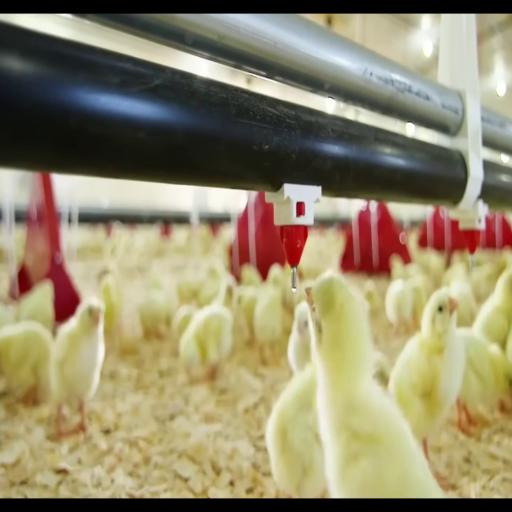chick: (307, 273, 443, 498), (389, 288, 465, 459), (266, 363, 325, 498), (50, 297, 105, 439), (457, 328, 511, 434), (0, 321, 53, 405), (179, 304, 233, 380), (473, 269, 511, 349), (253, 284, 282, 364), (139, 279, 177, 339), (16, 279, 54, 332), (99, 267, 121, 345), (287, 302, 310, 373), (385, 279, 413, 334), (489, 344, 511, 413), (196, 260, 227, 308), (469, 260, 505, 301), (449, 278, 477, 327), (235, 285, 258, 343), (412, 248, 445, 288), (408, 275, 429, 327), (172, 305, 197, 341), (389, 254, 422, 280), (213, 275, 236, 311), (176, 273, 201, 304), (373, 349, 391, 388), (364, 280, 382, 315), (442, 262, 468, 285), (240, 264, 262, 285), (266, 264, 284, 287), (0, 302, 15, 328)
